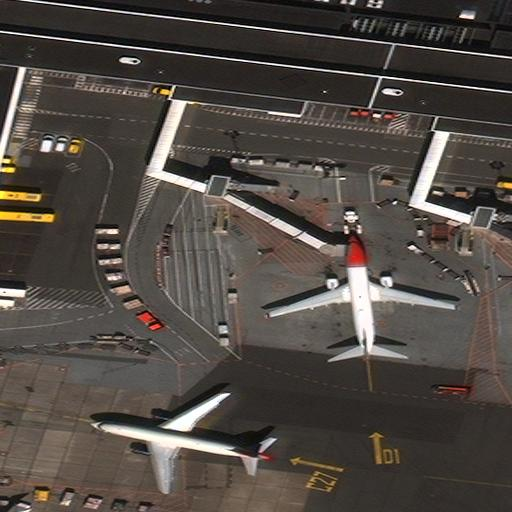Medium Civil Transport: (263, 234, 455, 368), (88, 392, 270, 490)
